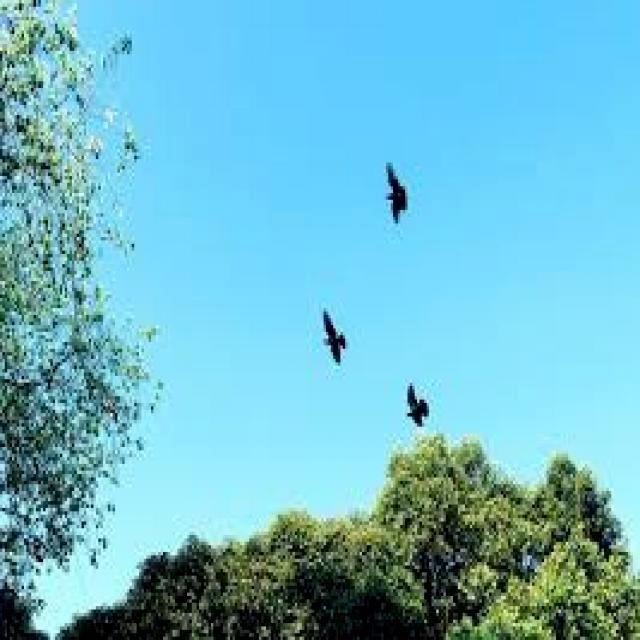bird: (313, 306, 362, 374), (376, 160, 419, 236), (392, 375, 440, 435)
